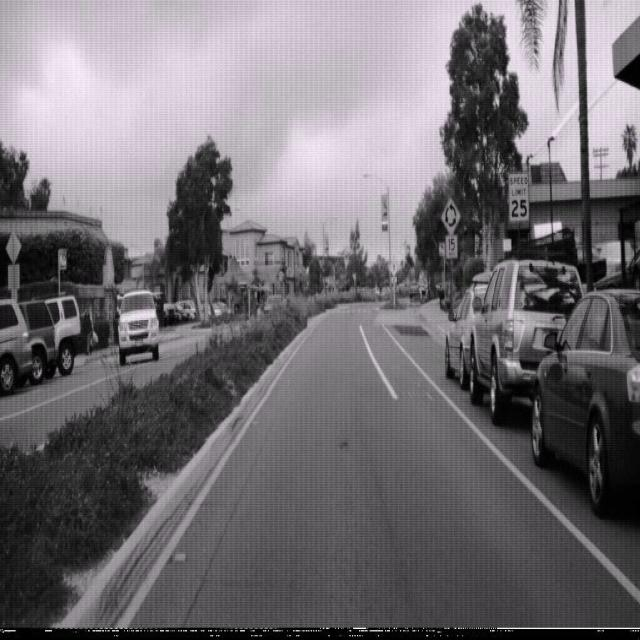speedLimit25: (507, 170, 530, 224)
